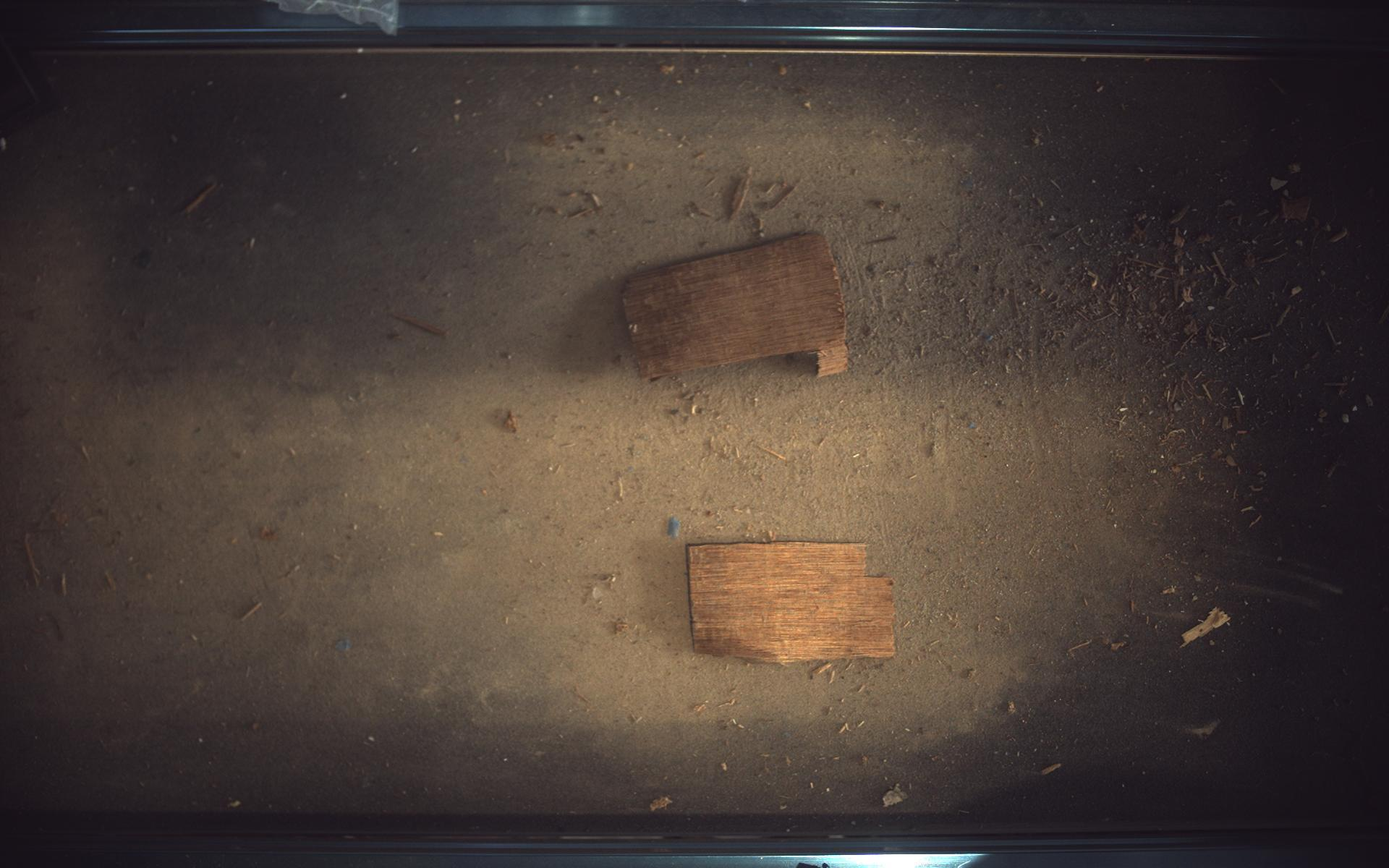wood: (624, 233, 849, 378), (688, 542, 896, 663)
